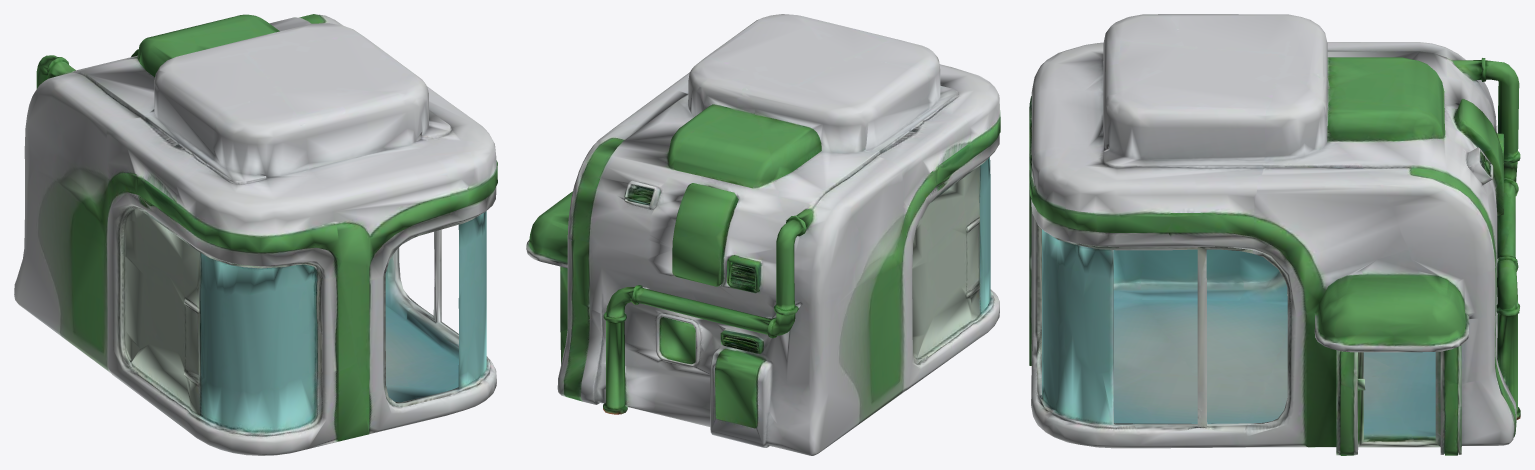
The model's file is tienda.glb.
3 views of the same model, side by side, from view 1: azimuth 30°, elevation 25°; view 2: azimuth 150°, elevation 25°; view 3: azimuth 270°, elevation 25° (orthographic). The views are drawn at different scales.
Visible parts, largest first — view 1: tripo_node_a5777a32-7543-40cc-9a8d-6681df36094a; view 2: tripo_node_a5777a32-7543-40cc-9a8d-6681df36094a; view 3: tripo_node_a5777a32-7543-40cc-9a8d-6681df36094a.
Boxes of the visible parts, box(x1,y1,x2,y2) form: tripo_node_a5777a32-7543-40cc-9a8d-6681df36094a: box(14, 14, 497, 455); tripo_node_a5777a32-7543-40cc-9a8d-6681df36094a: box(526, 14, 1000, 455); tripo_node_a5777a32-7543-40cc-9a8d-6681df36094a: box(1029, 14, 1520, 455).
Size of the model in its own units: 0.8759 by 0.7126 by 0.9996.
Materials: 1 (1 with a texture image).
